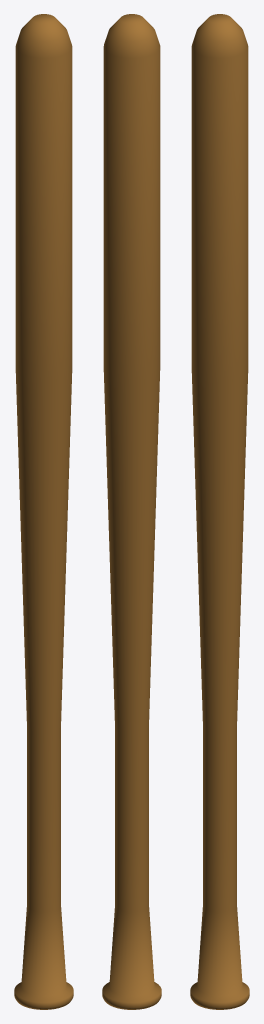
File: baseball_bat.fbx
3 views of the same model, side by side, from view 1: azimuth 90°, elevation 25°; view 2: azimuth 150°, elevation 25°; view 3: azimuth 270°, elevation 25° (orthographic).
Visible parts, largest first — view 1: Circle; view 2: Circle; view 3: Circle.
Part boxes in pixels (box(x1,y1,x2,y2)): Circle: box(14, 14, 73, 1009); Circle: box(102, 14, 161, 1009); Circle: box(190, 14, 249, 1009).
Bounding box in the file's own units: 200 × 3639 × 200.
